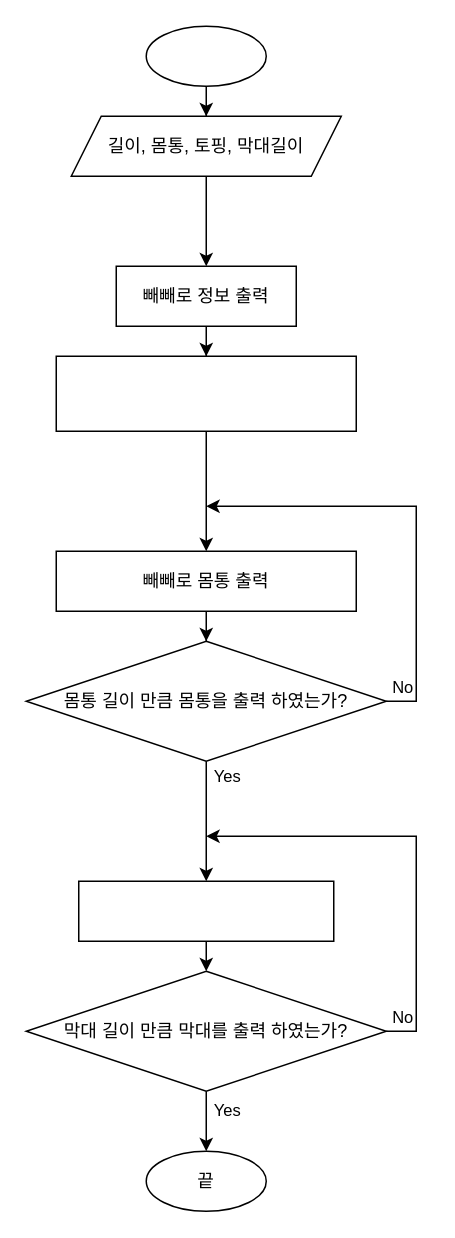
Image size: 455x1238. Some labels were removed from this diagram. The shapes that lost their labels are listed below. From the top down, each one's centre as x and y in pixels, then its label:
At pixel 205 55: "시작".
At pixel 205 393: "몸통, 토핑 정보를 사용하여 빼빼로 몸통 부분을 만들어 변수에 할당".
At pixel 205 910: "막대 출력".
